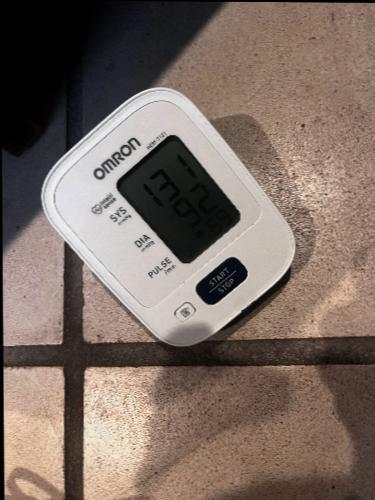bpm: (113, 132, 246, 268)
